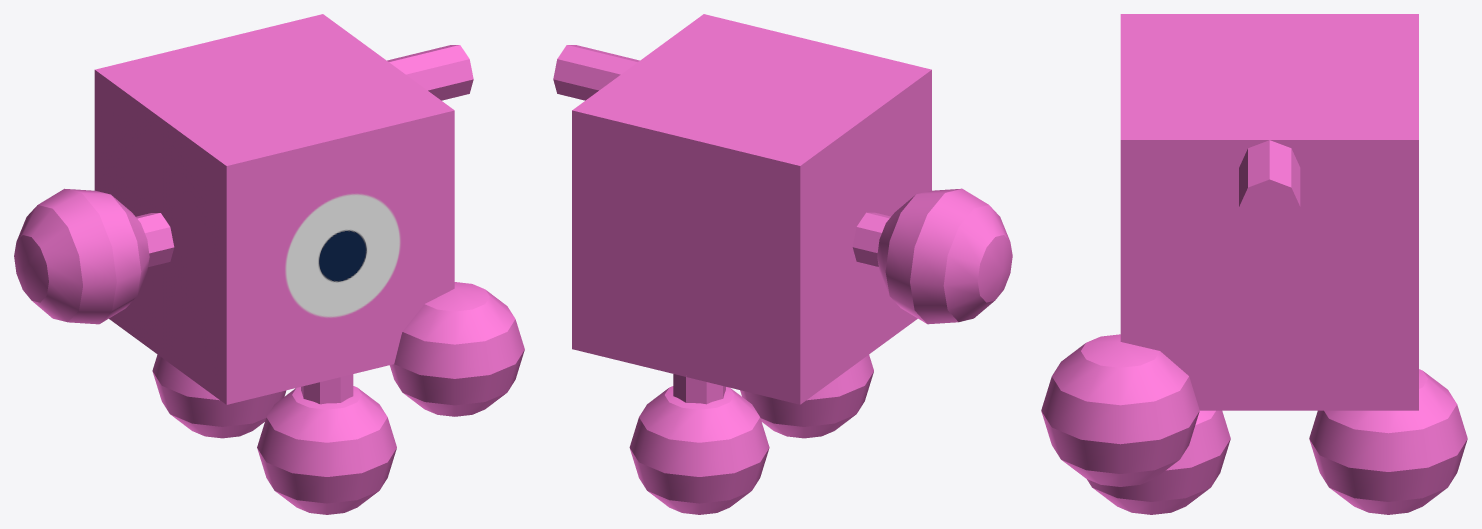
File: virus_E.fbx
3 views of the same model, side by side, from view 1: azimuth 30°, elevation 25°; view 2: azimuth 150°, elevation 25°; view 3: azimuth 270°, elevation 25° (orthographic). The views are drawn at different scales.
Parts seen in each view (by area): view 1: virus_E; view 2: virus_E; view 3: virus_E.
Boxes of the visible parts, <box> form: virus_E: <box>14,14,524,514</box>; virus_E: <box>553,14,1012,514</box>; virus_E: <box>1041,14,1467,514</box>.
Bounding box in the file's own units: 50.79 × 42.27 × 37.98.
